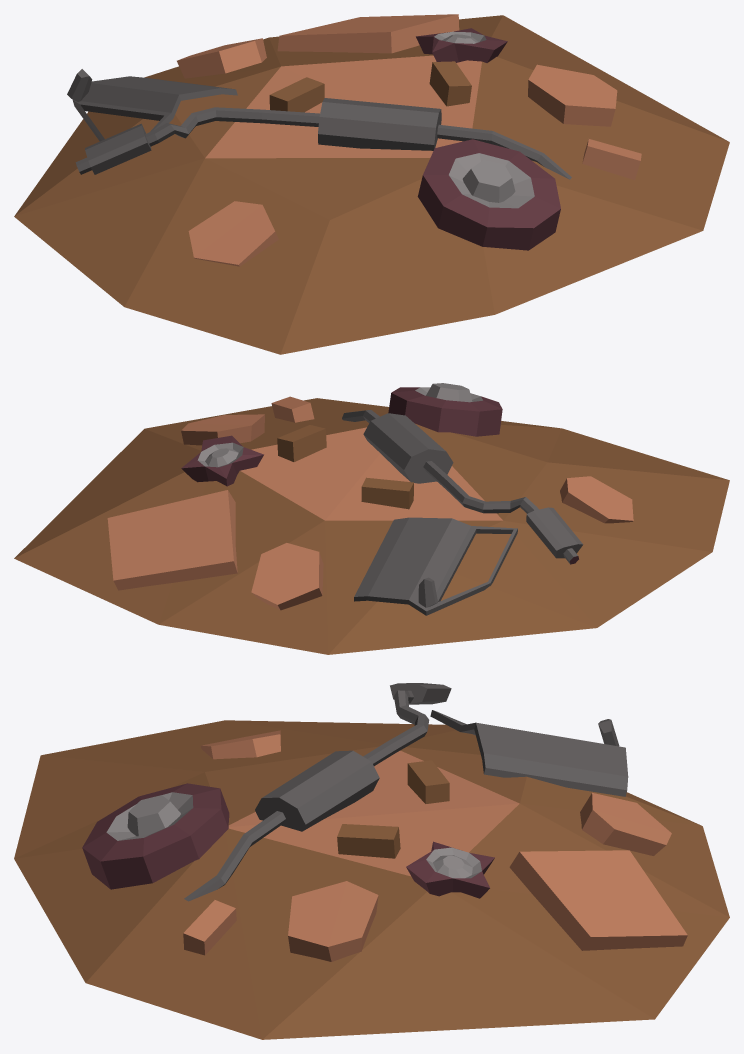
File: rubble-apocalypse-e.fbx
3 renders of one model, top to bottom at view 1: azimuth 30°, elevation 25°; view 2: azimuth 150°, elevation 25°; view 3: azimuth 270°, elevation 25°, orthographic. The views are drawn at different scales.
Parts seen in each view (by area): view 1: rubble-apocalypse-e; view 2: rubble-apocalypse-e; view 3: rubble-apocalypse-e.
Boxes of the visible parts, <box> form: rubble-apocalypse-e: <box>14,14,729,354</box>; rubble-apocalypse-e: <box>14,383,729,654</box>; rubble-apocalypse-e: <box>14,683,729,1039</box>.
Size of the model in its own units: 5.34 by 0.799 by 5.06.
